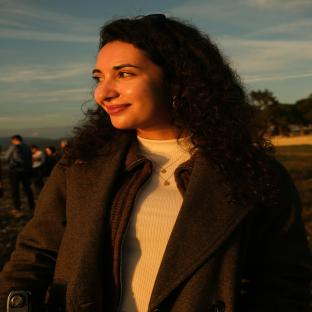Human: (0, 14, 312, 312)
